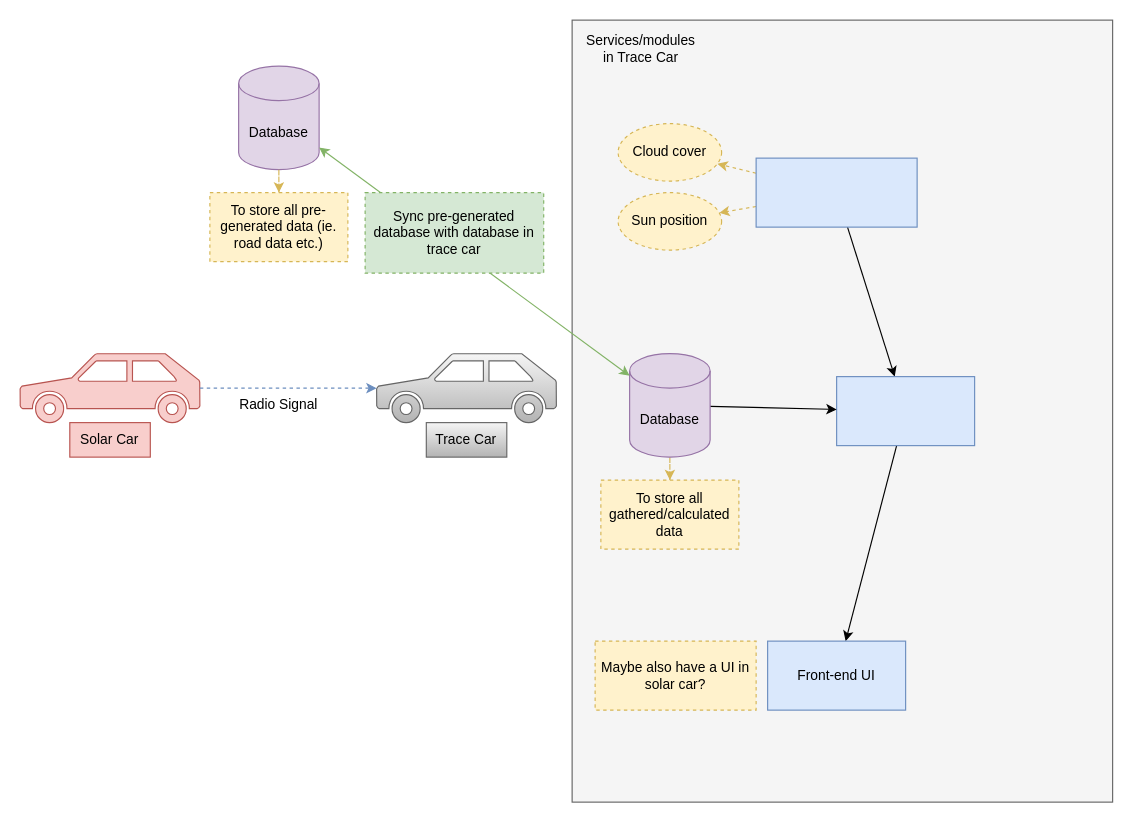
Image size: 1133x822. Some labels were removed from this diagram. Here are the shapes that lost their labels. From the top down, the centre of each, then its label:
the point at 836,192: Periodic data gathering from APIs
the point at 905,410: Prediction Service
